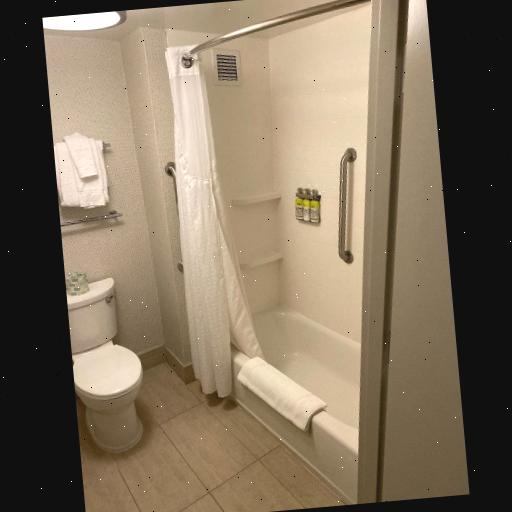clean_bathtub: (205, 296, 364, 501)
clean_floor: (86, 360, 350, 512)
clean_toilet: (53, 266, 153, 472)
folded_towel: (51, 133, 116, 209)
